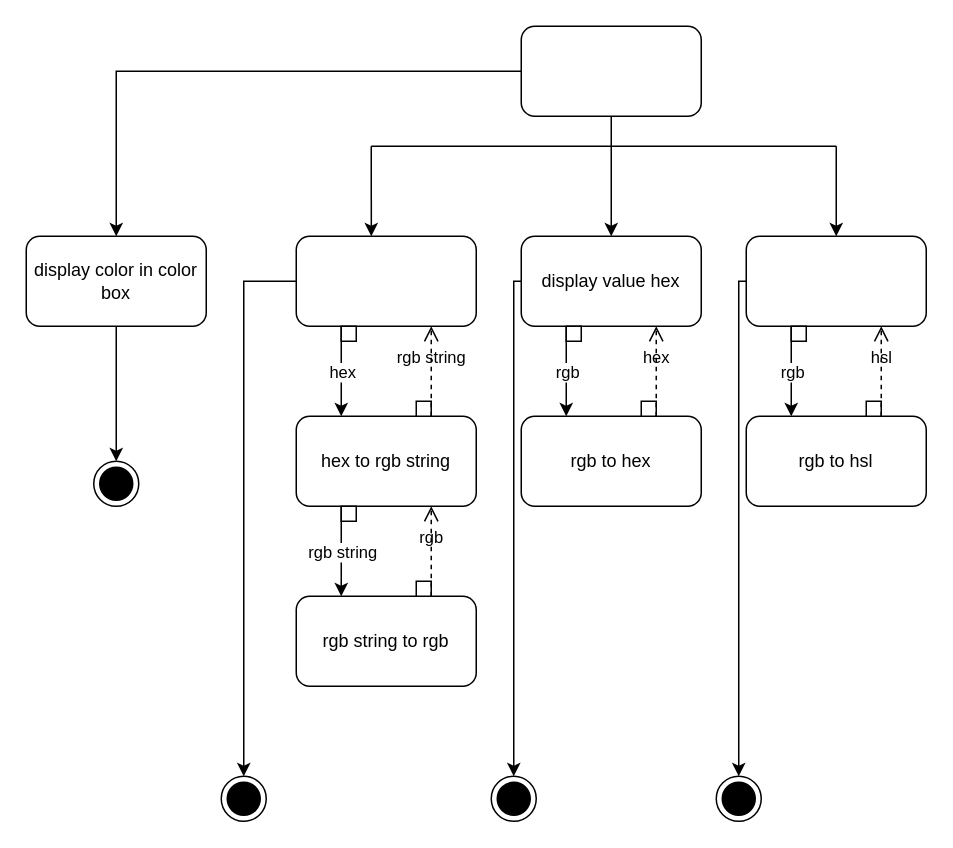
The diagram is 953 pixels wide and 848 high, and some of its shapes have lost their labels. The shapes that lost their labels are listed below. From the top down, each one's box as (x1, y1, x2, y2) in pixels, then its label:
(520, 25, 701, 116): get value from input
(295, 235, 476, 326): display value rgb
(745, 235, 926, 326): display value hsl
